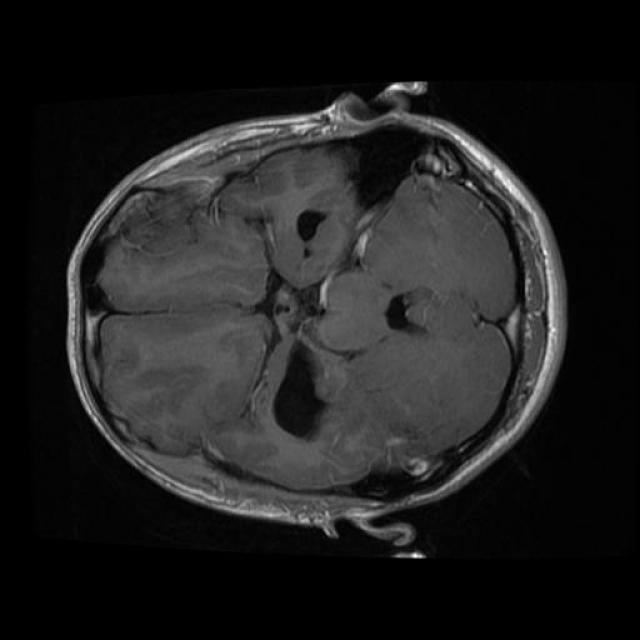Glioma: (273, 346, 325, 437)
